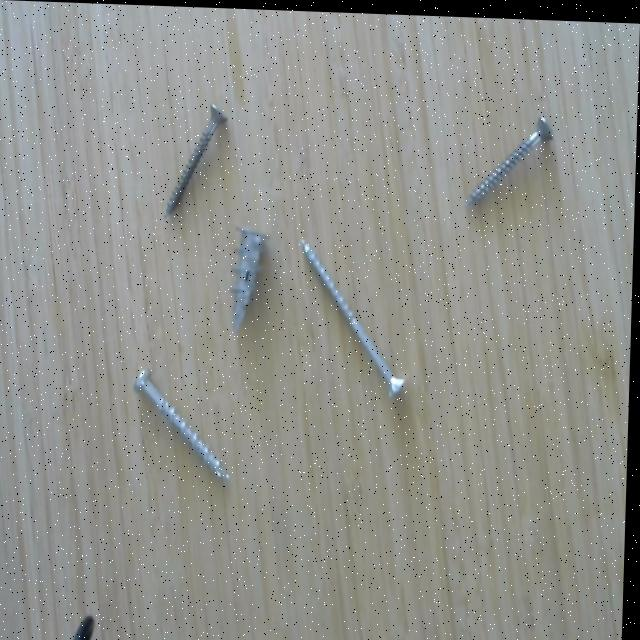Black screw: (468, 106, 560, 205), (168, 95, 231, 224)
Long screw: (294, 217, 419, 406)
Medium screw: (121, 355, 246, 494)
Short screw: (226, 218, 273, 335)
